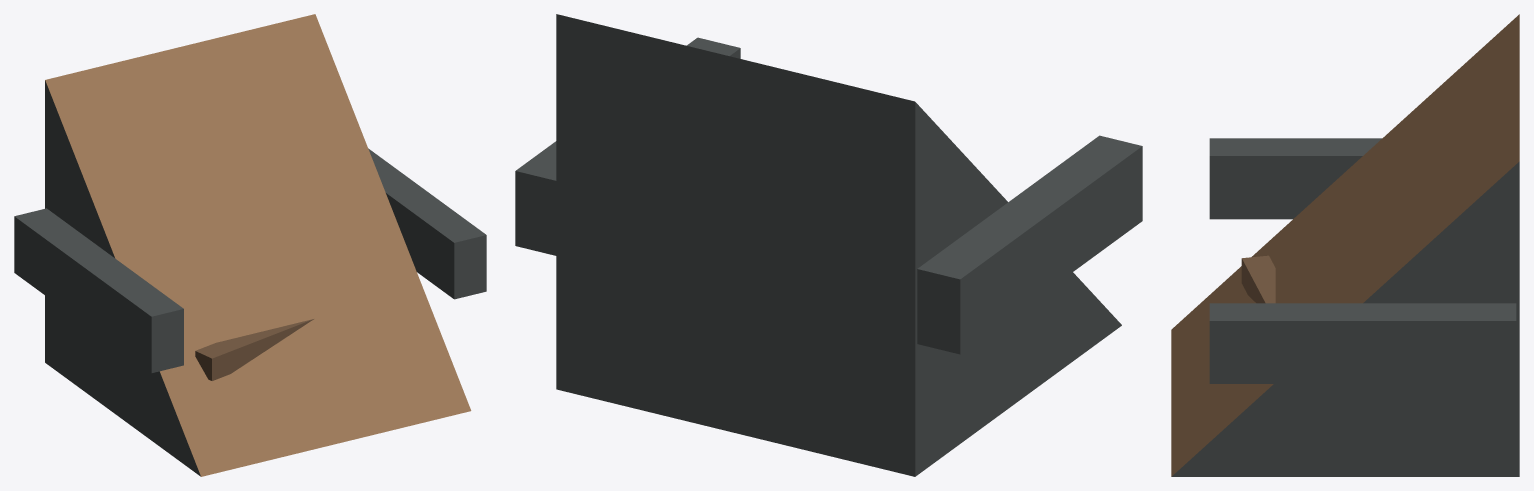
File: df_ramp_narrow_a.glb
3 renders of one model, left to right at view 1: azimuth 30°, elevation 25°; view 2: azimuth 150°, elevation 25°; view 3: azimuth 270°, elevation 25°, orthographic. The views are drawn at different scales.
Parts seen in each view (by area): view 1: slope, left_lip, right_lip, root; view 2: slope, left_lip, right_lip; view 3: slope, right_lip, left_lip, root.
Boxes of the visible parts, <box> form: slope: <box>45,14,471,476</box>; left_lip: <box>14,208,183,373</box>; right_lip: <box>368,148,486,299</box>; root: <box>195,319,313,380</box>; slope: <box>556,14,1121,476</box>; left_lip: <box>917,135,1142,354</box>; right_lip: <box>515,37,740,255</box>; slope: <box>1171,14,1519,476</box>; right_lip: <box>1209,303,1516,383</box>; left_lip: <box>1209,138,1381,219</box>; root: <box>1241,255,1275,303</box>.
Bounding box in the file's own units: 1.24 × 1 × 1.
